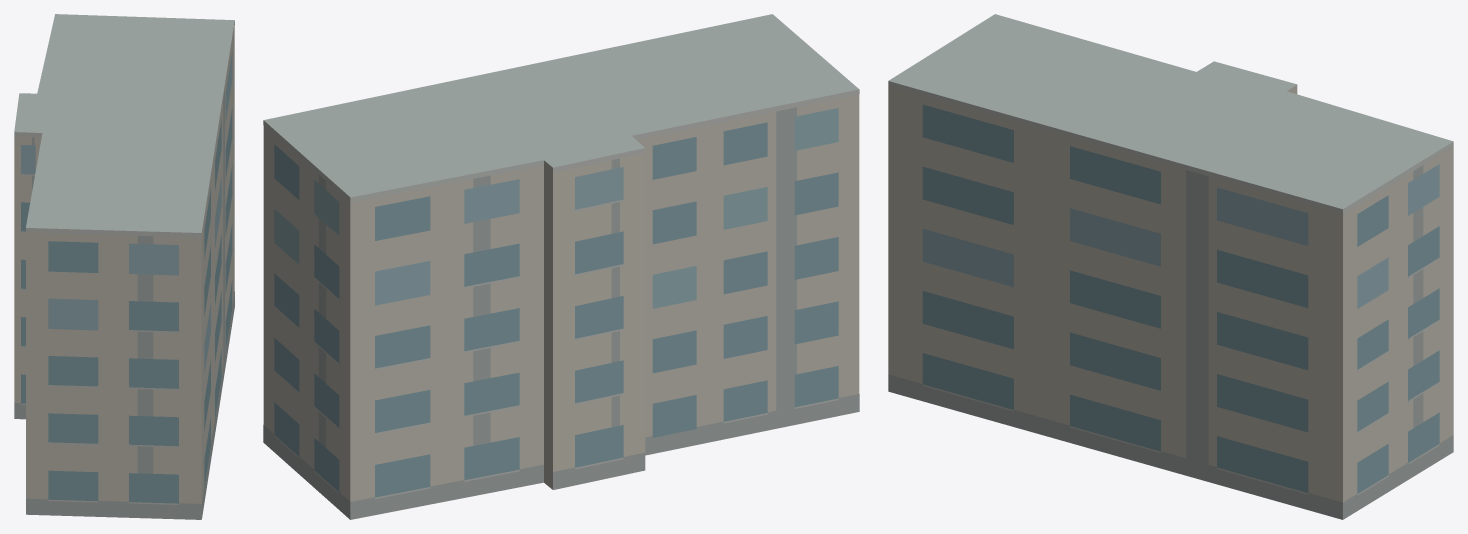
The model's file is residential-f5e255f8-2159-475a-ab5d-db740df037a6.glb.
3 views of the same model, side by side, from view 1: azimuth 30°, elevation 25°; view 2: azimuth 150°, elevation 25°; view 3: azimuth 270°, elevation 25° (orthographic). The views are drawn at different scales.
Visible parts, largest first — view 1: residential-f5e255f8-2159-475a-ab5d-db740df037a6.tmp; view 2: residential-f5e255f8-2159-475a-ab5d-db740df037a6.tmp; view 3: residential-f5e255f8-2159-475a-ab5d-db740df037a6.tmp.
Part boxes in pixels (x1=…): residential-f5e255f8-2159-475a-ab5d-db740df037a6.tmp: x1=14, y1=14, x2=234, y2=519; residential-f5e255f8-2159-475a-ab5d-db740df037a6.tmp: x1=263, y1=14, x2=859, y2=519; residential-f5e255f8-2159-475a-ab5d-db740df037a6.tmp: x1=888, y1=14, x2=1453, y2=519.
Size of the model in its own units: 20.57 by 15.25 by 25.17.
